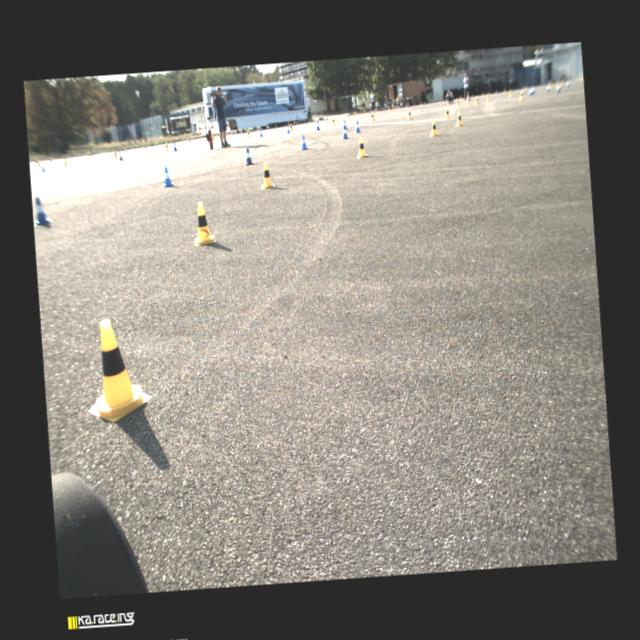blue_cone: (32, 195, 52, 226), (161, 165, 173, 188), (244, 146, 254, 164), (300, 134, 308, 149), (340, 125, 348, 139), (341, 118, 348, 130), (354, 120, 360, 132), (172, 141, 178, 151), (118, 150, 123, 161), (315, 120, 320, 130), (285, 124, 290, 134), (258, 127, 262, 136), (528, 88, 532, 96)
yellow_cone: (82, 315, 153, 423), (192, 202, 216, 246), (259, 162, 274, 188), (356, 136, 367, 158), (429, 118, 438, 136), (454, 110, 464, 126), (442, 106, 452, 120), (405, 109, 412, 120), (518, 90, 524, 101), (369, 111, 375, 121), (465, 95, 470, 104), (507, 88, 512, 96), (485, 92, 490, 100), (454, 98, 459, 106), (246, 128, 250, 138), (330, 116, 335, 124), (474, 96, 478, 104), (289, 122, 293, 130), (164, 142, 168, 150)
